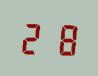eight: (48, 19, 76, 56)
two: (19, 18, 47, 55)
